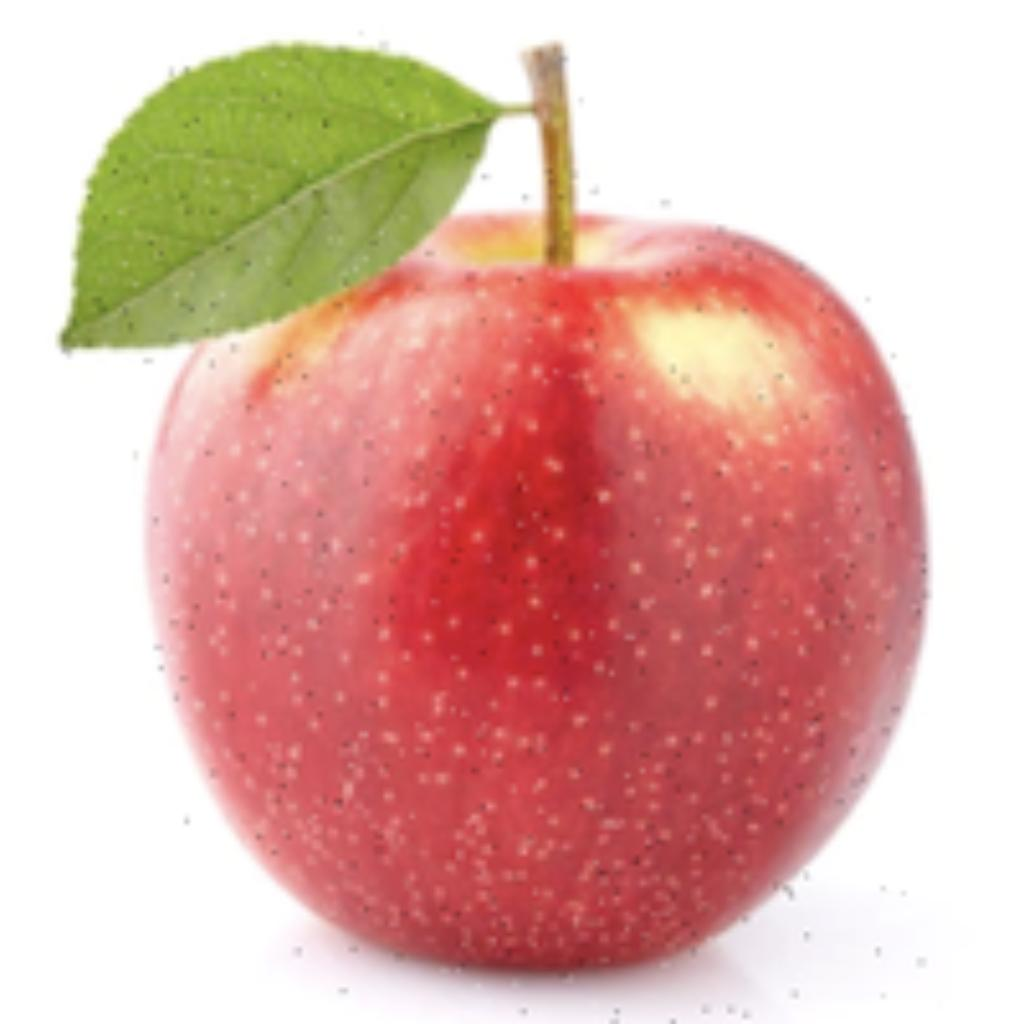apple: (51, 26, 932, 1019)
